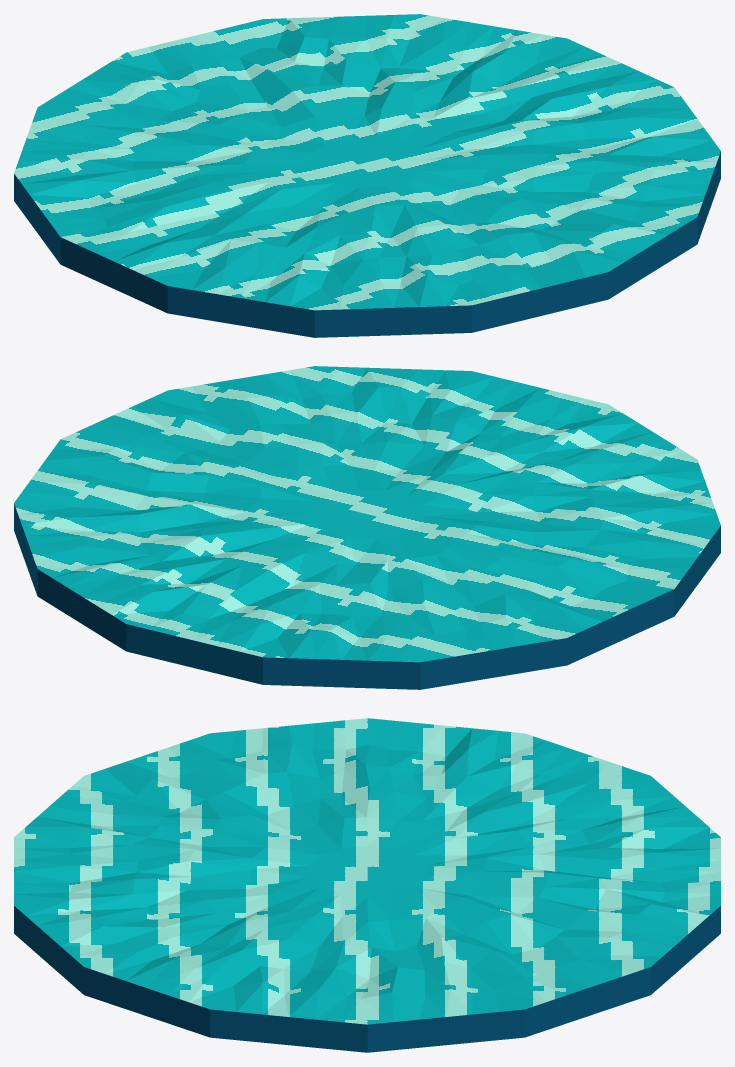
The model's file is seabed.glb.
The picture shows the model from 3 angles, top to bottom: view 1: azimuth 30°, elevation 25°; view 2: azimuth 150°, elevation 25°; view 3: azimuth 270°, elevation 25°; orthographic projection. The views are drawn at different scales.
Parts seen in each view (by area): view 1: Seabed; view 2: Seabed; view 3: Seabed.
Boxes of the visible parts, box(x1,y1,x2,y2) form: Seabed: box(14, 14, 720, 337); Seabed: box(14, 366, 720, 689); Seabed: box(14, 718, 720, 1052).
Size of the model in its own units: 14 by 0.72 by 13.65.
Materials: 2 (1 with a texture image).
